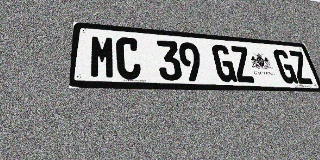3: (156, 40, 183, 81)
9: (178, 42, 204, 81)
C: (116, 37, 142, 80)
G: (211, 44, 237, 82), (272, 49, 299, 84)
M: (89, 35, 116, 79)
Z: (229, 46, 256, 83), (287, 50, 314, 84)
